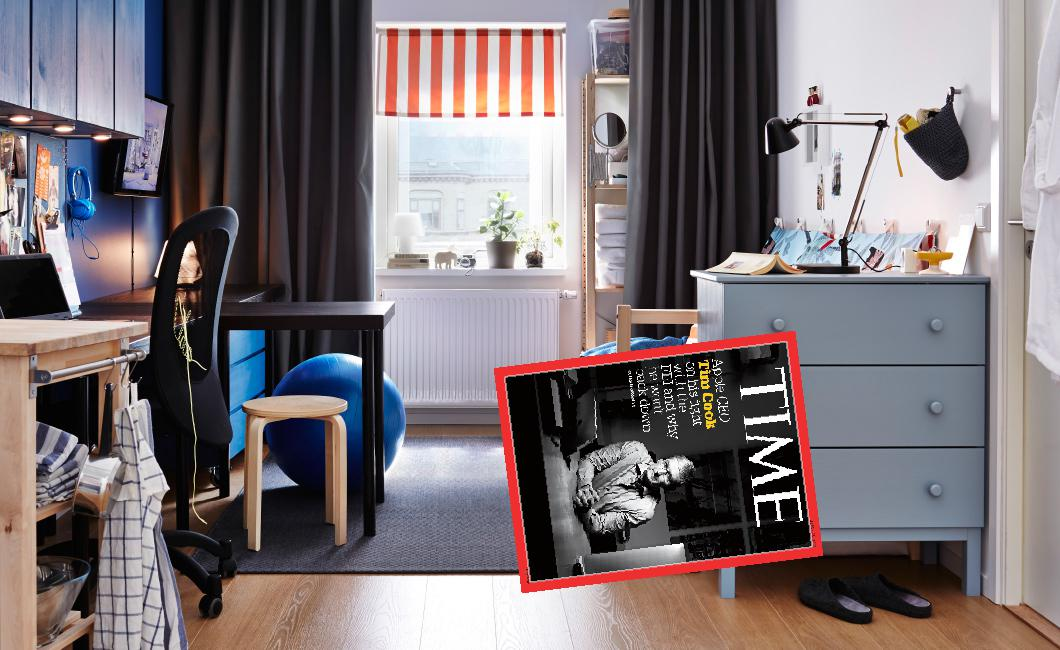times: (492, 328, 821, 598)
